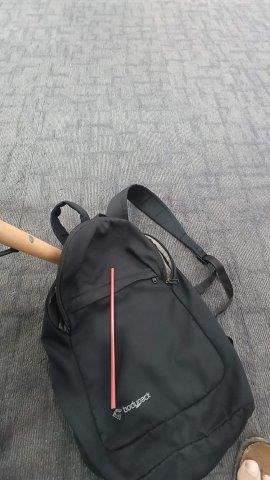sedotan: (110, 268, 115, 408)
